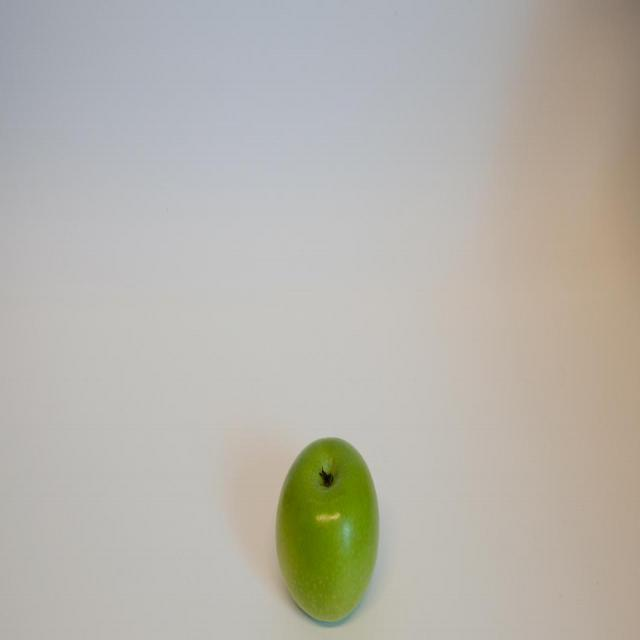apple: (274, 433, 381, 628)
